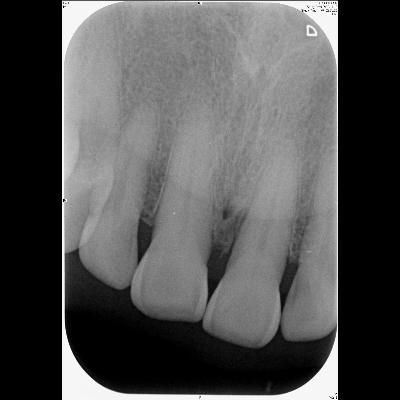tooth: (201, 136, 303, 350), (130, 102, 216, 324), (76, 103, 160, 290)
